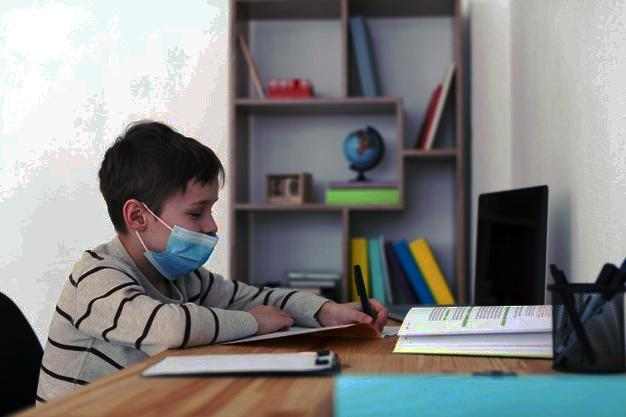mask_weared_incorrect: (102, 119, 223, 283)
